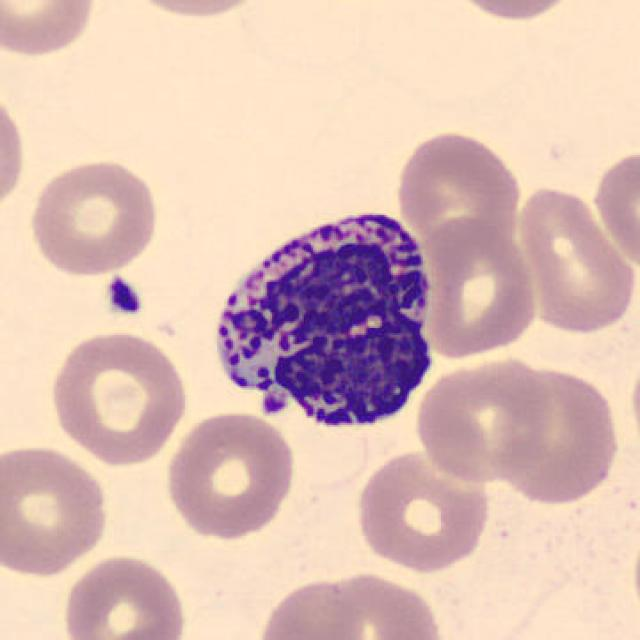Basophil: (201, 194, 444, 442)
Platelets: (101, 273, 146, 321)
RBC: (44, 326, 192, 467), (491, 360, 624, 510), (412, 352, 558, 484), (512, 182, 636, 336), (162, 407, 298, 543), (350, 446, 492, 575), (418, 215, 542, 362), (391, 127, 525, 256), (25, 154, 162, 278), (0, 441, 114, 580), (59, 550, 190, 640), (306, 568, 448, 638), (254, 575, 368, 640), (590, 143, 638, 275), (0, 0, 101, 61), (0, 84, 30, 220), (443, 0, 585, 25), (114, 0, 276, 21), (627, 340, 640, 474), (629, 508, 640, 634)
